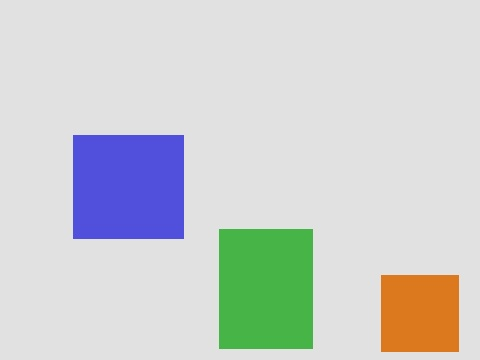square: (381, 275, 458, 351)
tall_box: (73, 135, 183, 238)
wide_box: (219, 229, 312, 348)
